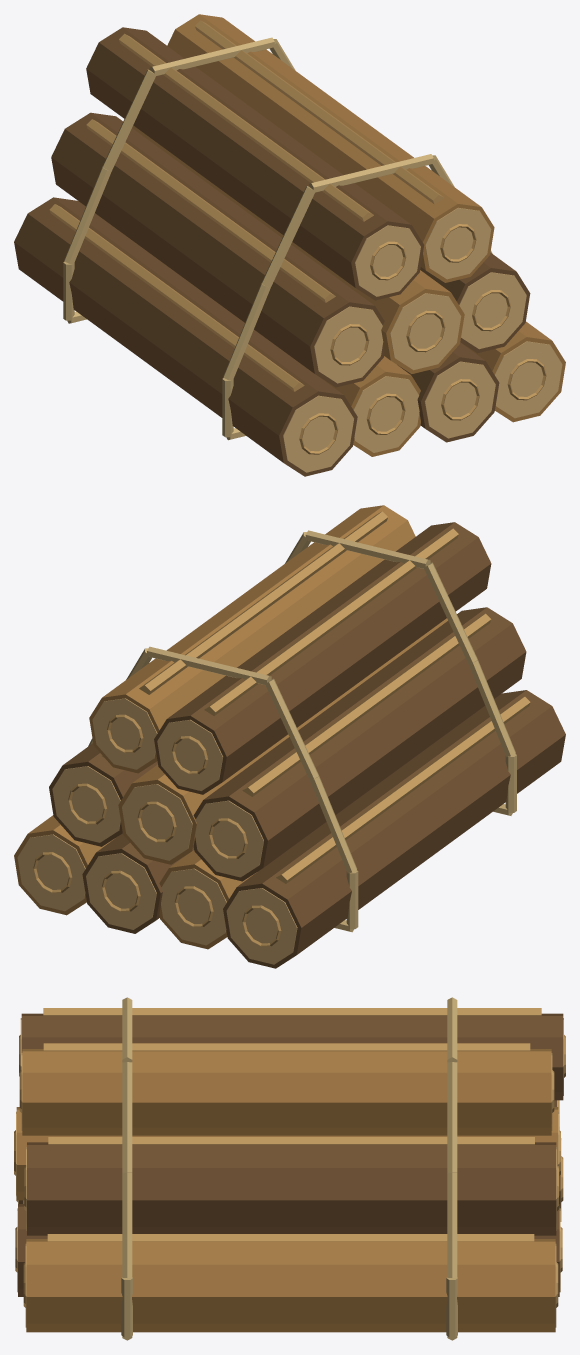
File: SM_CampWoodpile.fbx
The picture shows the model from 3 angles, top to bottom: view 1: azimuth 30°, elevation 25°; view 2: azimuth 150°, elevation 25°; view 3: azimuth 270°, elevation 25°; orthographic projection. The views are drawn at different scales.
Visible parts, largest first — view 1: SM_CampWoodpile; view 2: SM_CampWoodpile; view 3: SM_CampWoodpile.
Boxes of the visible parts, x1,y1,x2,y2 form: SM_CampWoodpile: [14, 14, 565, 476]; SM_CampWoodpile: [14, 505, 565, 968]; SM_CampWoodpile: [14, 997, 565, 1340].
Size of the model in its own units: 0.8372 by 1.32 by 0.65.
